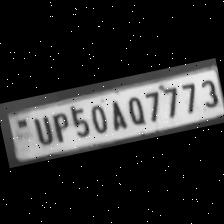0: (84, 99, 110, 134)
3: (195, 73, 222, 110)
5: (65, 103, 90, 139)
7: (156, 82, 182, 119), (175, 78, 200, 114), (140, 86, 164, 122)
A: (104, 96, 127, 132)
P: (46, 108, 70, 142)
Q: (121, 90, 146, 127)
U: (27, 111, 54, 146)
